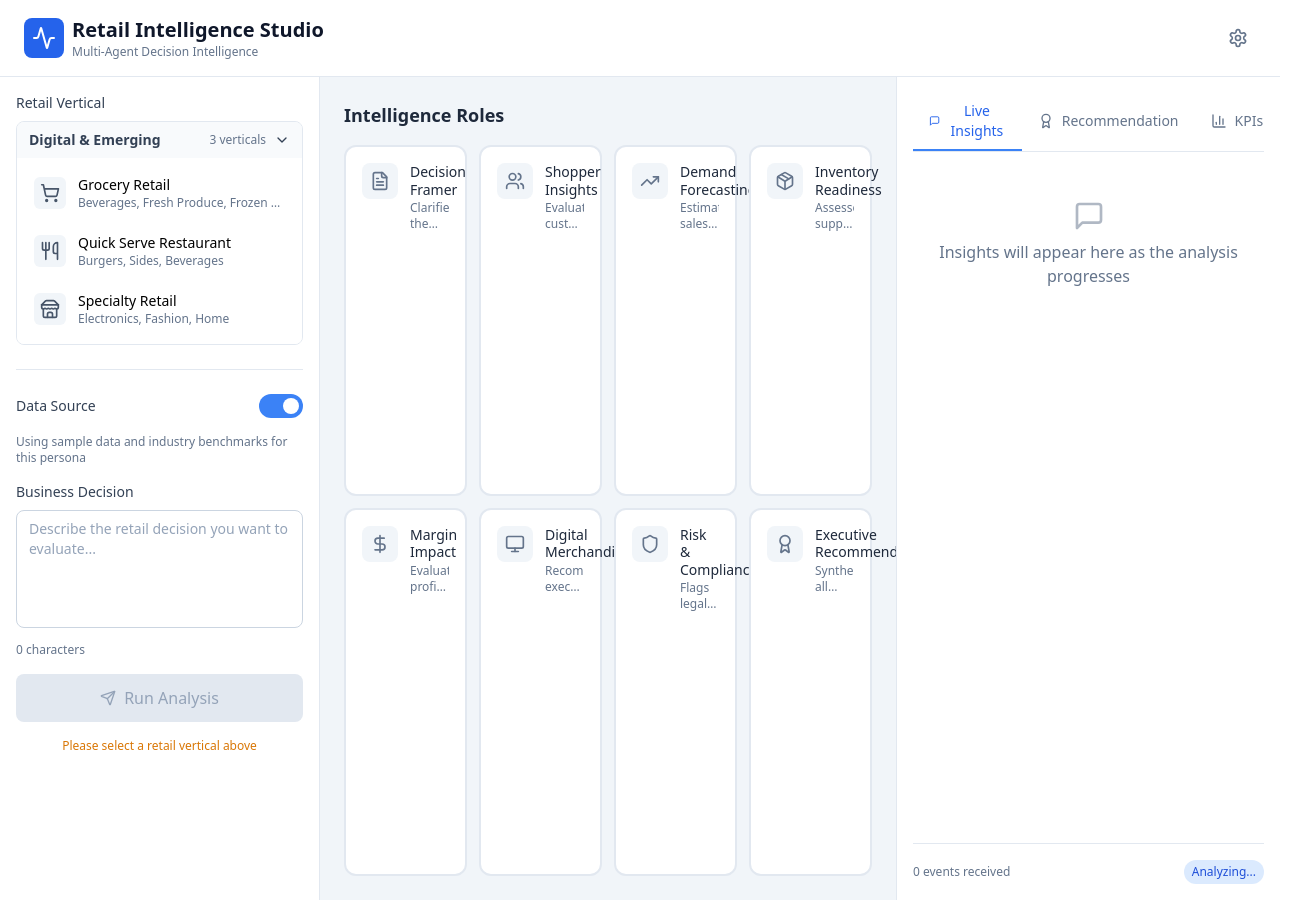
Scenario: App Smoke Tests › User Interactions › enables submit button with valid input
Expected: the text "Grocery Retail" is shown, [78,175,170,194]
Click the button "Grocery Retail". click: (160, 193)
box: [25,166,294,220]
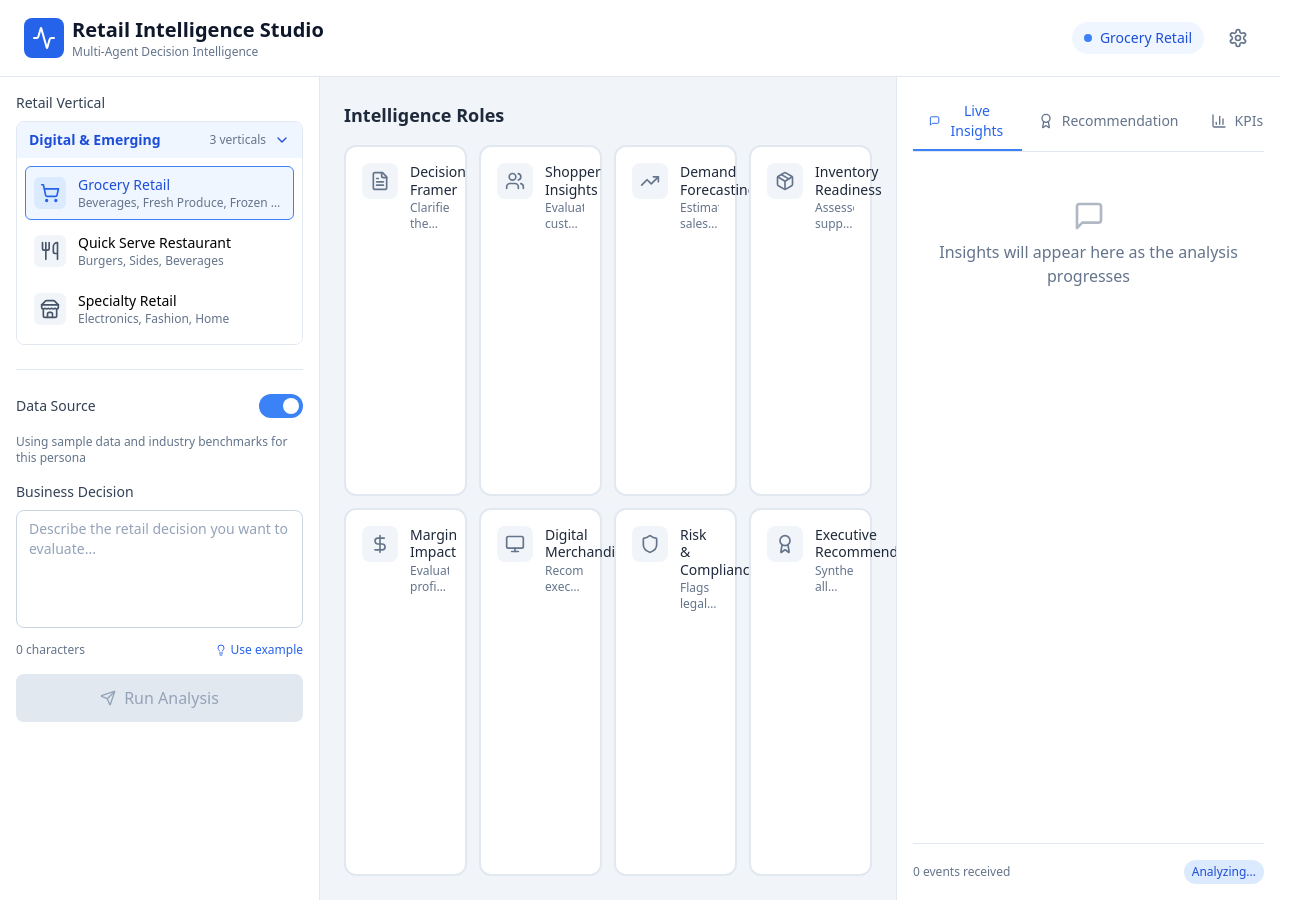
Type a decision (more than 10 characters)
Type "Should we expand our organic product line to meet growing consumer demand?" into the text box. click: (160, 569)
box: [16,510,303,628]
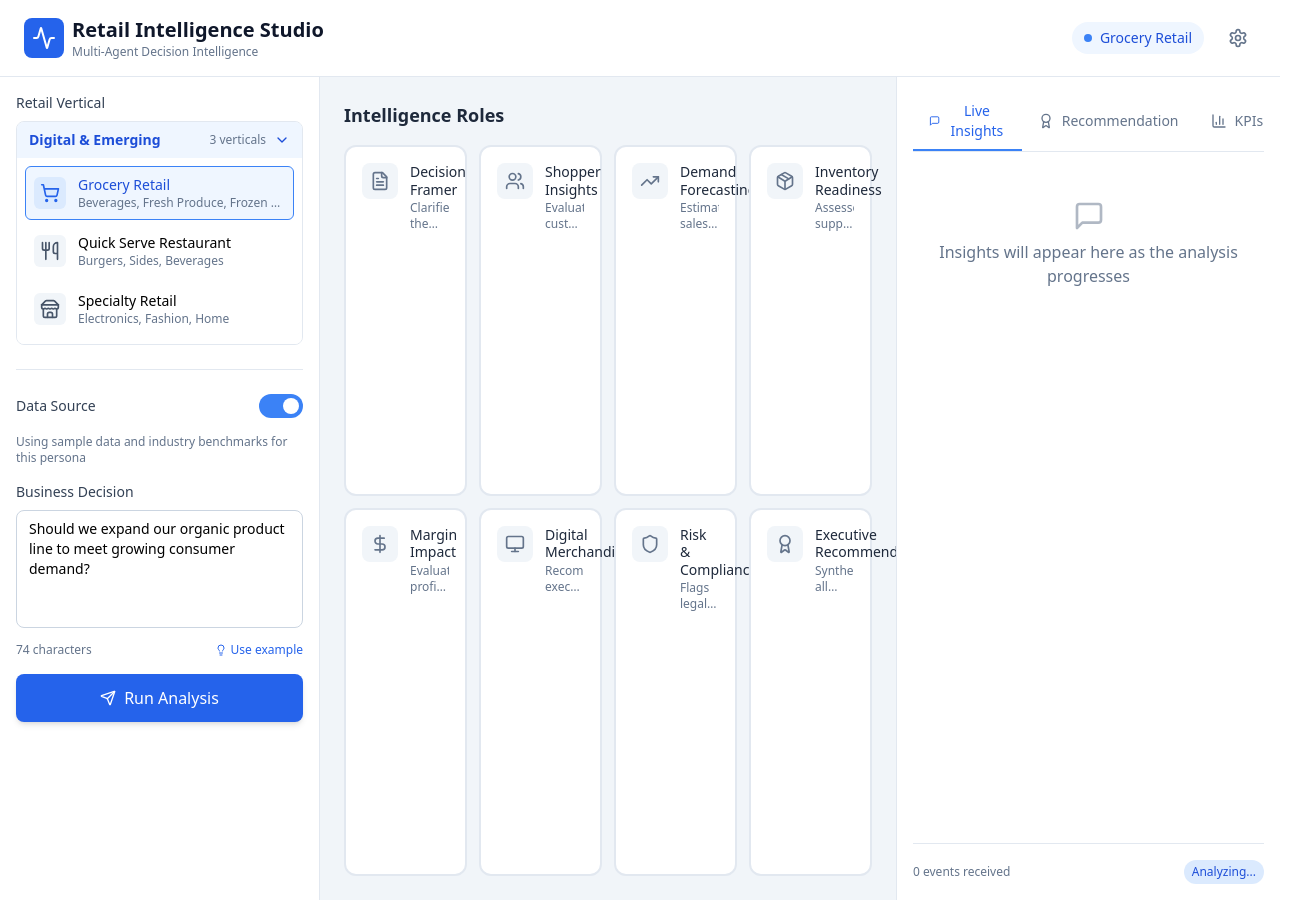
Result: the button "Run Analysis" is enabled at [16,674,303,722]
